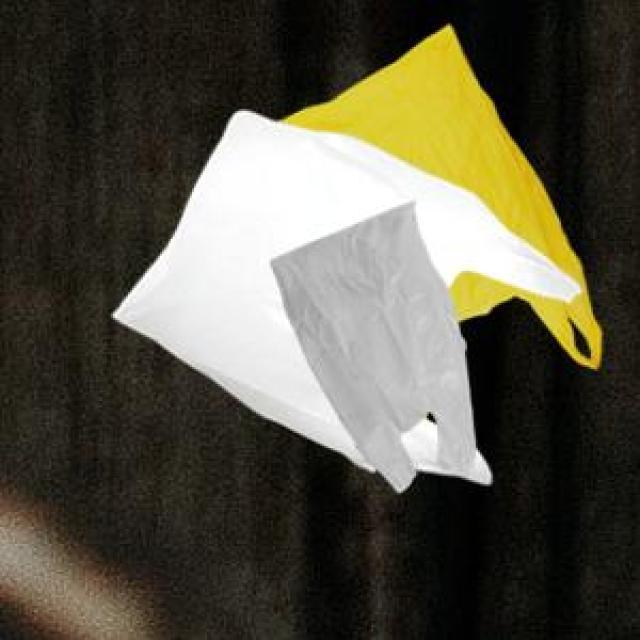Single-layer Plastic: (34, 99, 581, 494), (284, 15, 569, 253), (271, 202, 476, 490), (523, 283, 611, 396), (460, 277, 516, 340)
